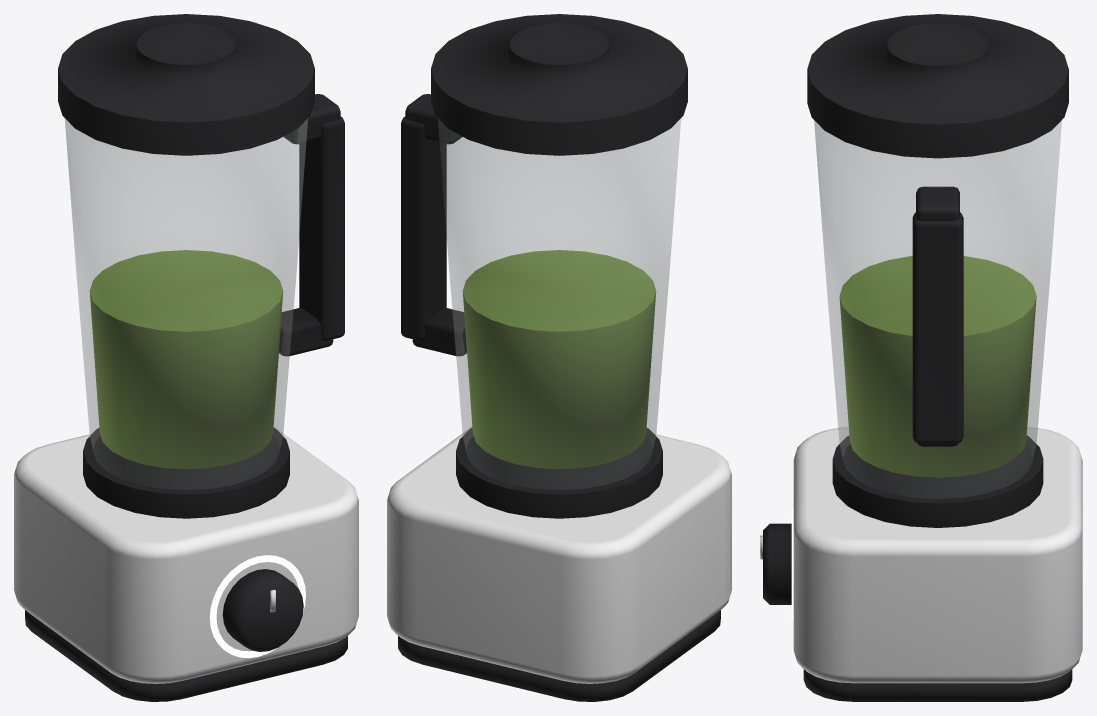
File: ix_blender.gltf
3 renders of one model, left to right at view 1: azimuth 30°, elevation 25°; view 2: azimuth 150°, elevation 25°; view 3: azimuth 270°, elevation 25°, orthographic.
Parts seen in each view (by area): view 1: IX_Blender_Jar_Glass, IX_Blender_Base, IX_Blender_Jar_Smoothie, IX_Blender_Jar_Lid, IX_Blender_Jar_Handle, IX_Blender_Seat, IX_Blender_Foot, IX_Blender_Dial_Knob, IX_Blender_Ring; view 2: IX_Blender_Jar_Glass, IX_Blender_Base, IX_Blender_Jar_Smoothie, IX_Blender_Jar_Lid, IX_Blender_Jar_Handle, IX_Blender_Seat, IX_Blender_Foot; view 3: IX_Blender_Jar_Glass, IX_Blender_Base, IX_Blender_Jar_Lid, IX_Blender_Jar_Smoothie, IX_Blender_Jar_Handle, IX_Blender_Seat, IX_Blender_Foot, IX_Blender_Dial_Knob.
Part boxes in pixels (x1=…): IX_Blender_Jar_Glass: x1=65, y1=119, x2=307, y2=489; IX_Blender_Base: x1=14, y1=427, x2=358, y2=683; IX_Blender_Jar_Smoothie: x1=89, y1=250, x2=283, y2=469; IX_Blender_Jar_Lid: x1=58, y1=14, x2=314, y2=155; IX_Blender_Jar_Handle: x1=279, y1=94, x2=344, y2=356; IX_Blender_Seat: x1=83, y1=428, x2=289, y2=518; IX_Blender_Foot: x1=25, y1=610, x2=347, y2=701; IX_Blender_Dial_Knob: x1=222, y1=569, x2=303, y2=651; IX_Blender_Ring: x1=209, y1=555, x2=305, y2=658; IX_Blender_Jar_Glass: x1=438, y1=119, x2=680, y2=489; IX_Blender_Base: x1=387, y1=427, x2=731, y2=683; IX_Blender_Jar_Smoothie: x1=462, y1=250, x2=656, y2=469; IX_Blender_Jar_Lid: x1=431, y1=14, x2=687, y2=155; IX_Blender_Jar_Handle: x1=401, y1=94, x2=466, y2=356; IX_Blender_Seat: x1=456, y1=428, x2=662, y2=518; IX_Blender_Foot: x1=398, y1=610, x2=720, y2=701; IX_Blender_Jar_Glass: x1=814, y1=120, x2=1061, y2=498; IX_Blender_Base: x1=793, y1=427, x2=1082, y2=683; IX_Blender_Jar_Lid: x1=807, y1=14, x2=1068, y2=158; IX_Blender_Jar_Smoothie: x1=839, y1=256, x2=1036, y2=477; IX_Blender_Jar_Handle: x1=912, y1=186, x2=963, y2=446; IX_Blender_Seat: x1=832, y1=435, x2=1043, y2=527; IX_Blender_Foot: x1=803, y1=669, x2=1072, y2=701; IX_Blender_Dial_Knob: x1=763, y1=523, x2=791, y2=604.
Size of the model in its own units: 0.188 by 0.39 by 0.1895.
